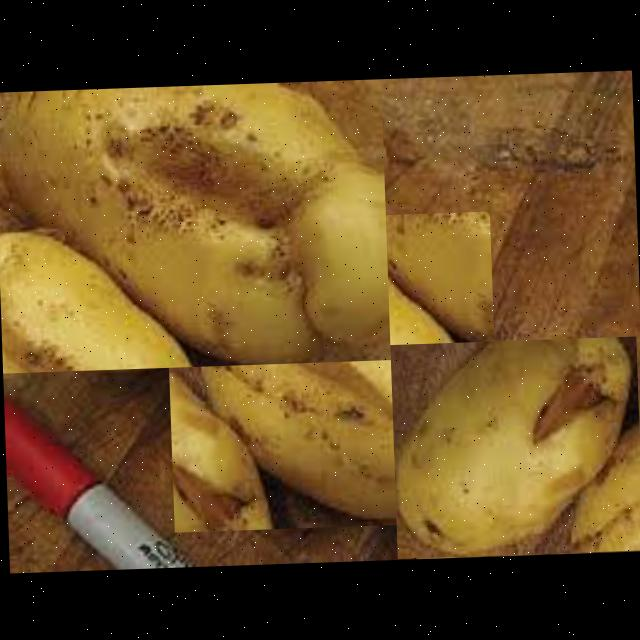Damaged potato: (0, 77, 389, 372), (162, 210, 500, 531), (389, 335, 640, 558)
